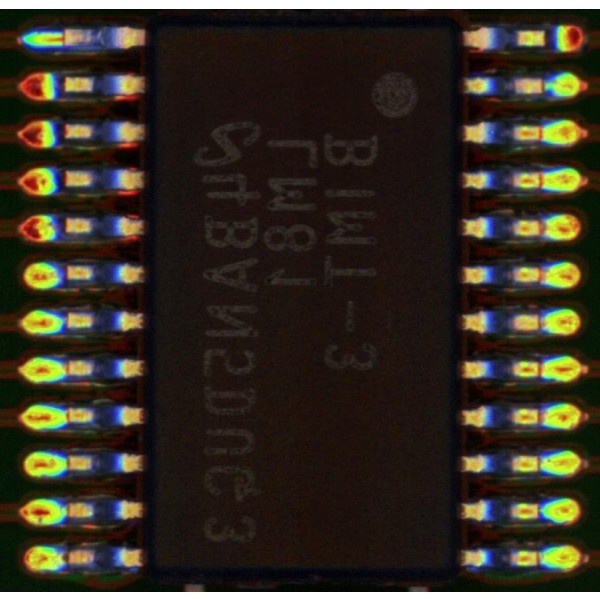Bad_podu: (53, 32, 75, 46)
